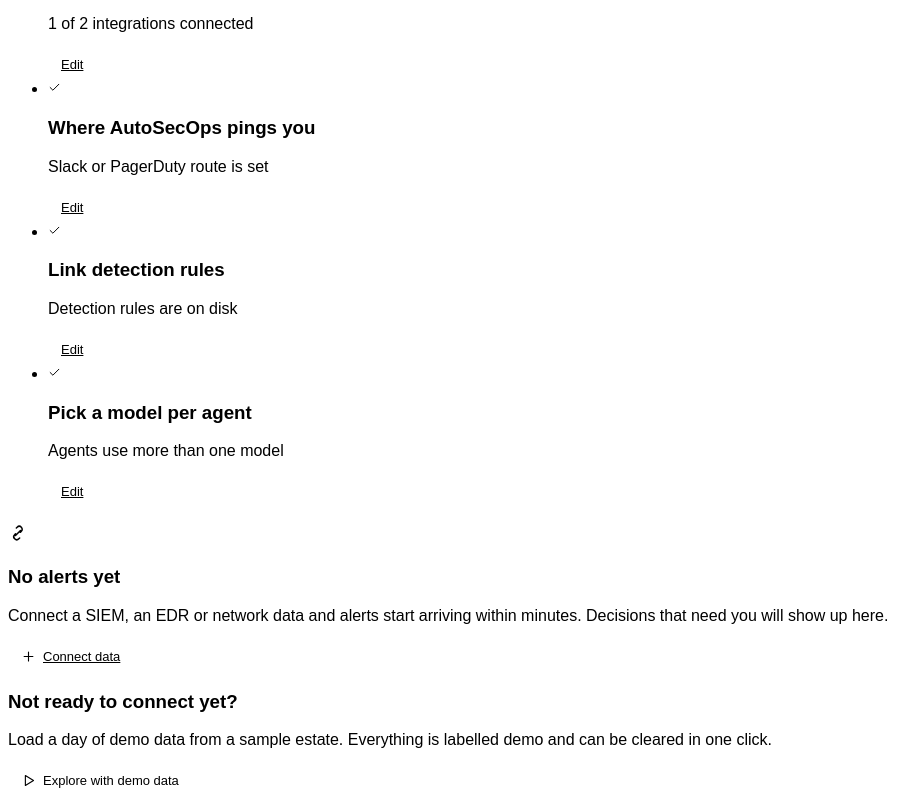
Test case: Home › shows the demo-mode message and leaves the action once demo is on
(page scrolled)
Click the button "Explore with demo data". click: (100, 781)
box: 8,765 -> 192,796
(page scrolled)
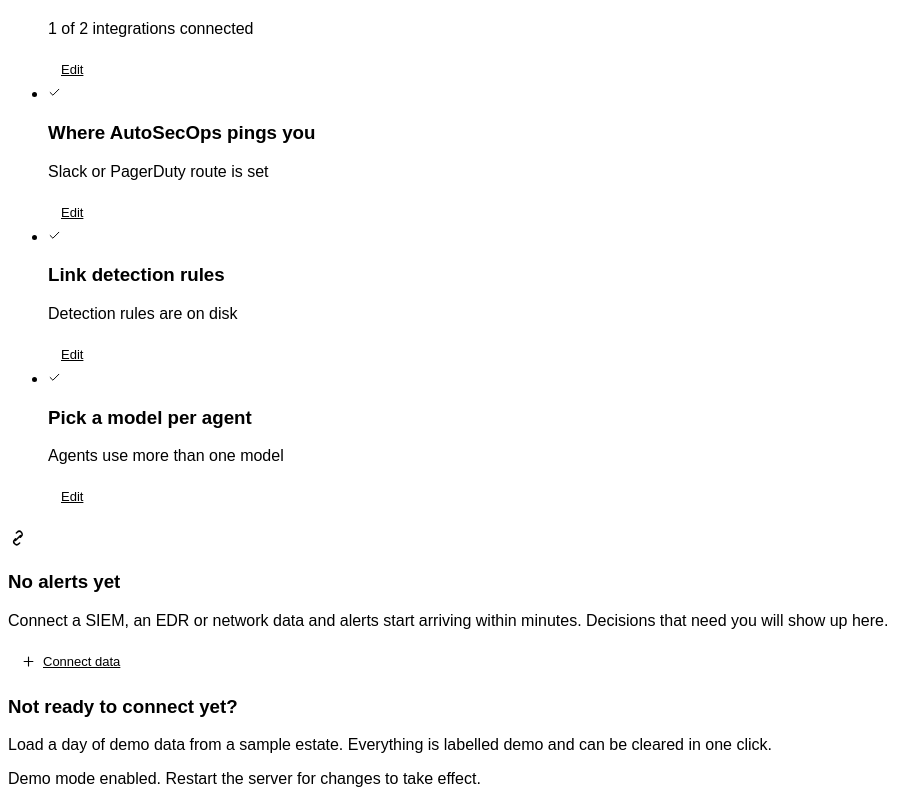
Now the text "Demo mode enabled. Restart the server for changes to take effect." is shown, box 8,770 -> 481,787
Now the button "Explore with demo data" is gone
